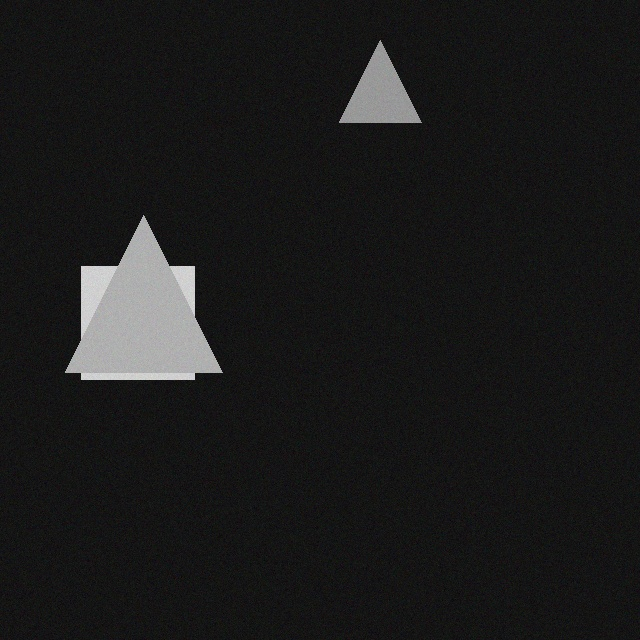square: (78, 252, 191, 365)
triangle: (62, 201, 219, 358), (336, 26, 418, 108)
